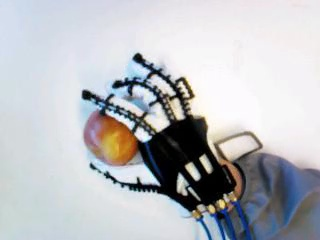apple: (83, 108, 140, 164)
hand: (82, 54, 236, 218)
